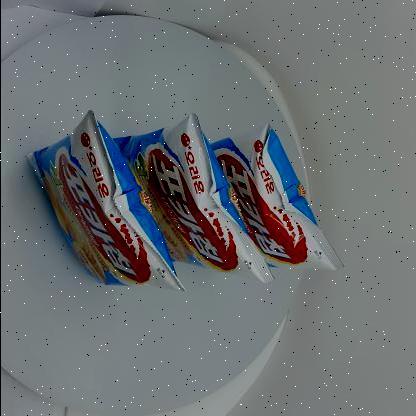Others: (14, 98, 366, 322)
